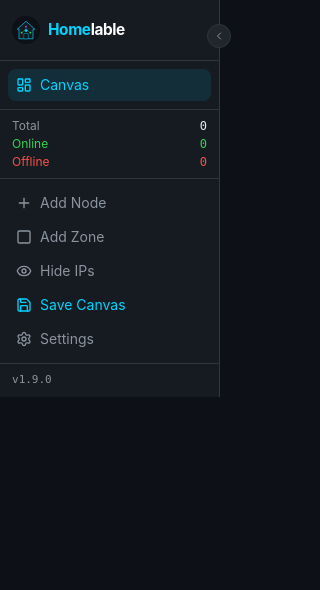
SettingsPanel › opens when Settings item is clicked
Step 1. Click the button "Settings" → {"x": 110, "y": 339}, box 8,323 -> 211,355
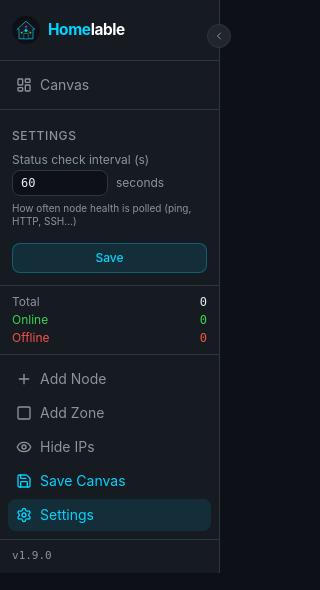
Result: the text "Status check interval (s)" is shown at 12,152 -> 149,167
